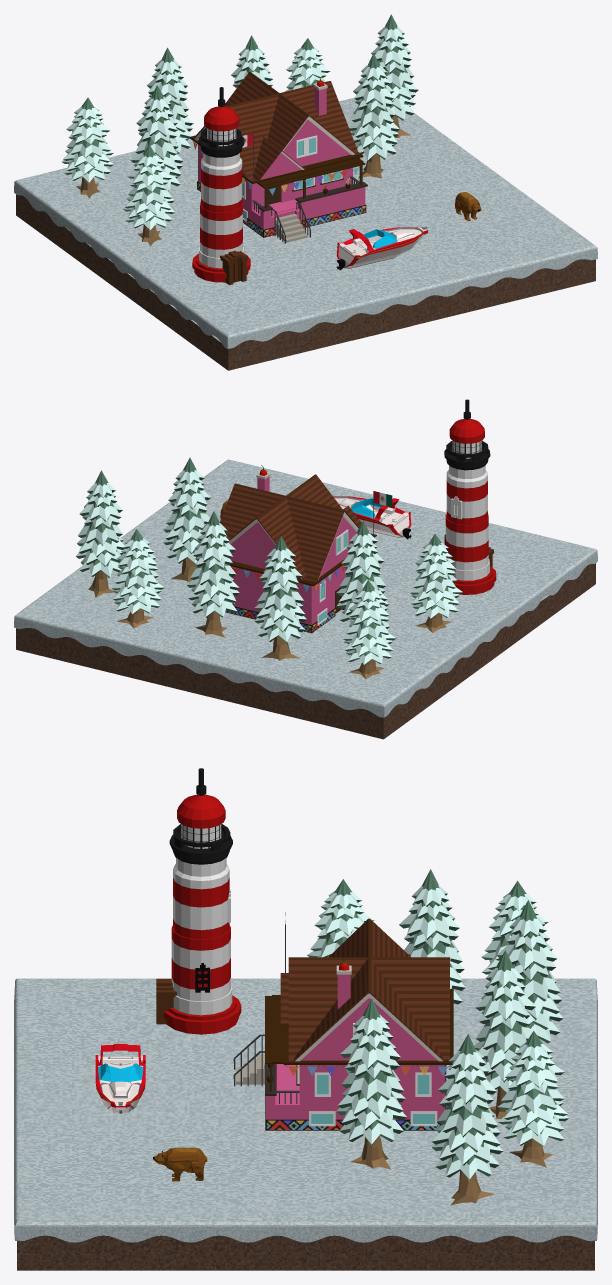
3 views of the same model, one above another, from view 1: azimuth 30°, elevation 25°; view 2: azimuth 150°, elevation 25°; view 3: azimuth 270°, elevation 25° (orthographic). The views are drawn at different scales.
Visible parts, largest first — view 1: Cube.003, Cube.1005, OBJRANDOM_LIGHTHOUSE, VEHICLES_BOAT, ANIMAL_OSO; view 2: Cube.003, Cube.1005, OBJRANDOM_LIGHTHOUSE, VEHICLES_BOAT; view 3: Cube.003, Cube.1005, OBJRANDOM_LIGHTHOUSE, VEHICLES_BOAT, ANIMAL_OSO.
Boxes of the visible parts, <box> form: Cube.003: <box>14,14,597,370</box>; Cube.1005: <box>190,71,367,243</box>; OBJRANDOM_LIGHTHOUSE: <box>192,87,250,285</box>; VEHICLES_BOAT: <box>336,226,427,270</box>; ANIMAL_OSO: <box>455,192,481,221</box>; Cube.003: <box>14,457,597,739</box>; Cube.1005: <box>220,465,392,633</box>; OBJRANDOM_LIGHTHOUSE: <box>444,399,496,594</box>; VEHICLES_BOAT: <box>333,496,411,539</box>; Cube.003: <box>14,869,597,1270</box>; Cube.1005: <box>233,912,453,1130</box>; OBJRANDOM_LIGHTHOUSE: <box>156,768,241,1034</box>; VEHICLES_BOAT: <box>95,1044,145,1113</box>; ANIMAL_OSO: <box>153,1147,207,1181</box>.
Bounding box in the file's own units: 4040 × 2351 × 4040.
Materials: 72 (5 with a texture image).
